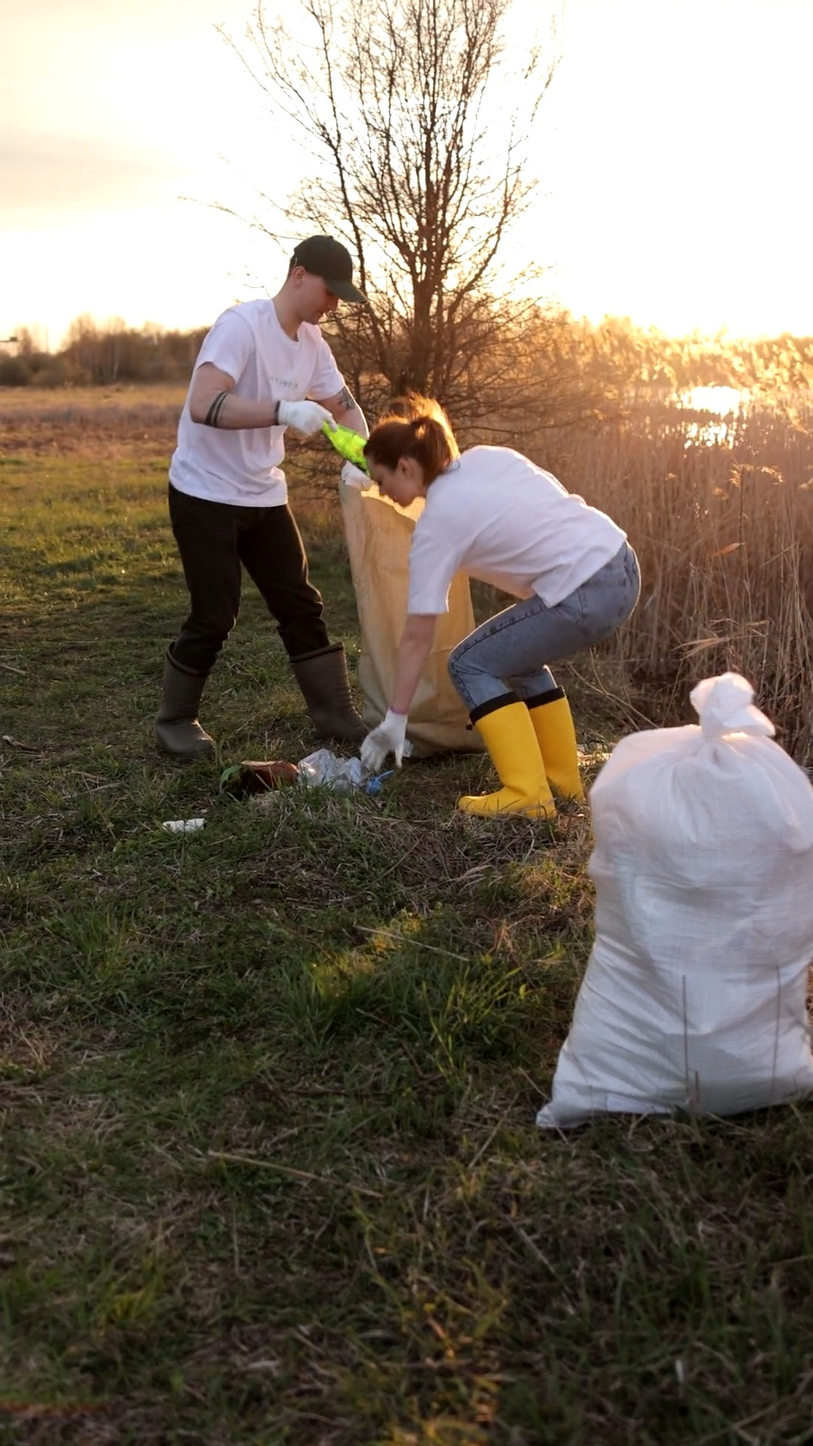gloves: (349, 704, 427, 781), (271, 387, 354, 453)
